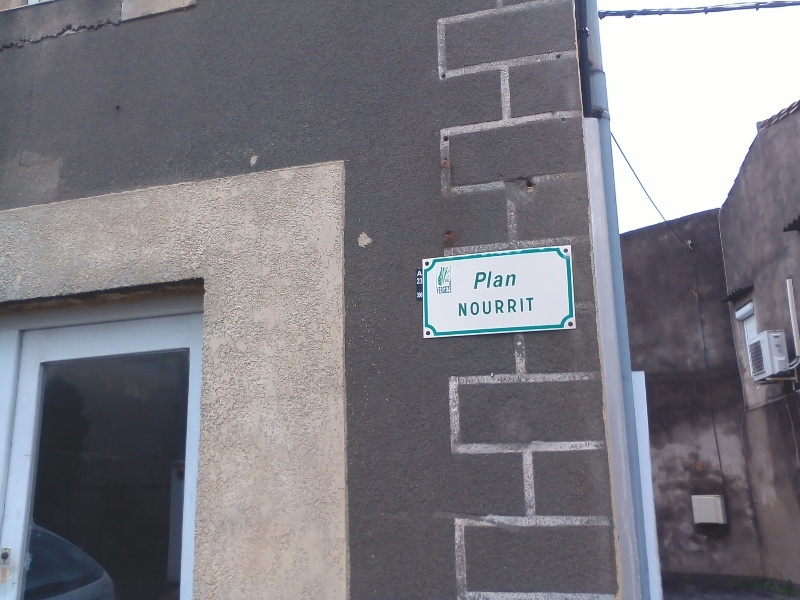text: (481, 269, 496, 290), (497, 269, 512, 290), (465, 297, 480, 318), (481, 297, 496, 318), (497, 297, 512, 318), (513, 297, 528, 318), (529, 297, 535, 318), (513, 269, 518, 290), (459, 297, 464, 318), (417, 270, 432, 277), (417, 278, 432, 285), (417, 292, 432, 299), (436, 286, 448, 294), (477, 269, 480, 290), (449, 286, 452, 294), (445, 278, 448, 286), (449, 278, 452, 286)
